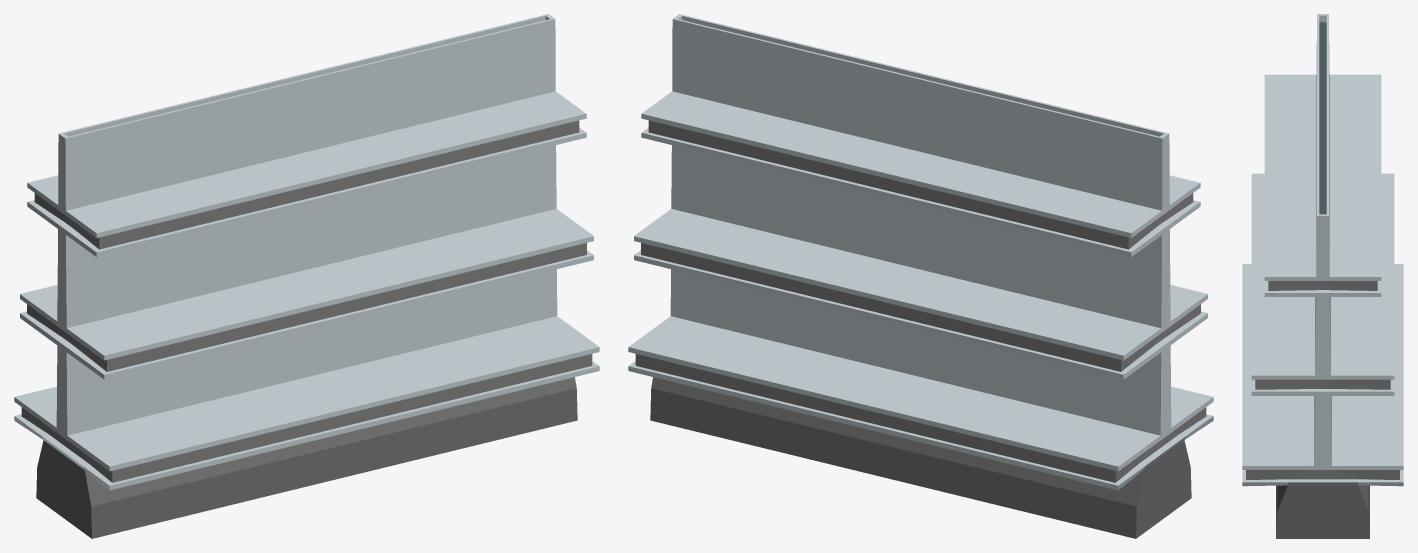
The model's file is Two Sided Shelving Med #1.fbx.
The picture shows the model from 3 angles, left to right: view 1: azimuth 30°, elevation 25°; view 2: azimuth 150°, elevation 25°; view 3: azimuth 270°, elevation 25°; orthographic projection. The views are drawn at different scales.
Visible parts, largest first — view 1: Two Sided Shelving Med #1; view 2: Two Sided Shelving Med #1; view 3: Two Sided Shelving Med #1.
Part boxes in pixels (bbox=[...]): Two Sided Shelving Med #1: bbox=[14, 14, 599, 538]; Two Sided Shelving Med #1: bbox=[628, 14, 1213, 538]; Two Sided Shelving Med #1: bbox=[1242, 14, 1403, 538].
Bounding box in the file's own units: 223 × 166 × 75.01.
1 material, 1 textured.
